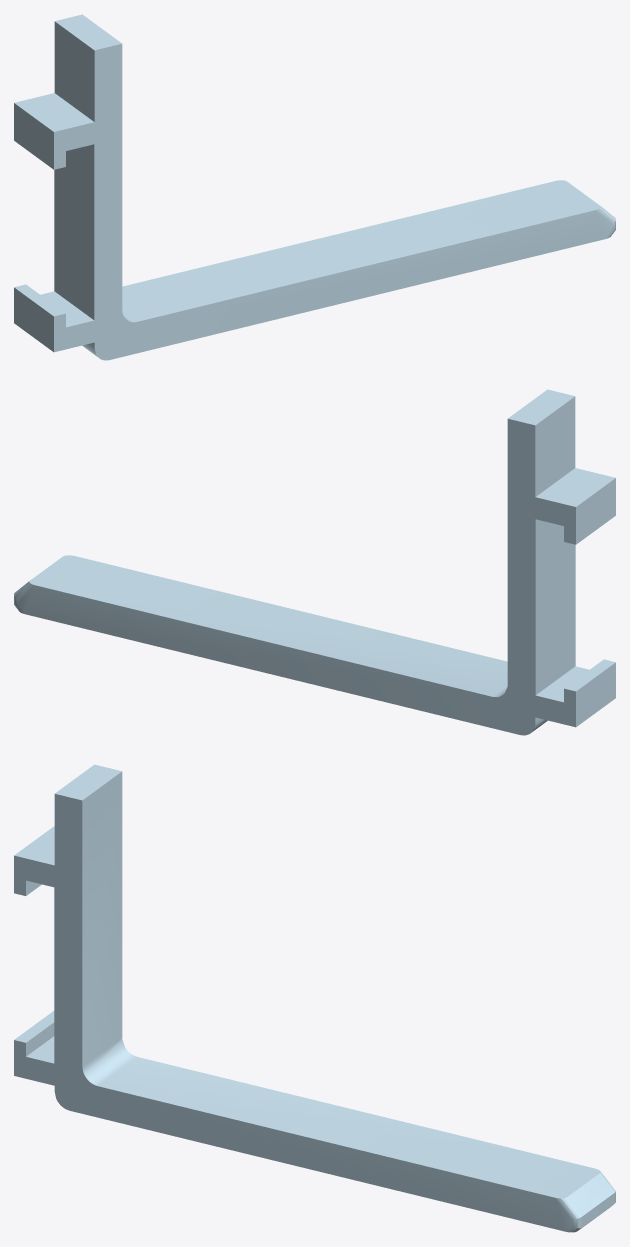
The picture shows the model from 3 angles, top to bottom: view 1: azimuth 30°, elevation 25°; view 2: azimuth 150°, elevation 25°; view 3: azimuth 330°, elevation 25°; orthographic projection.
Visible parts, largest first — view 1: mesh5; view 2: mesh5; view 3: mesh5.
Boxes of the visible parts, x1,y1,x2,y2 form: mesh5: [14, 14, 615, 360]; mesh5: [14, 389, 615, 735]; mesh5: [14, 764, 615, 1232].
Size of the model in its own units: 0.0376 by 0.0199 by 0.0046.
